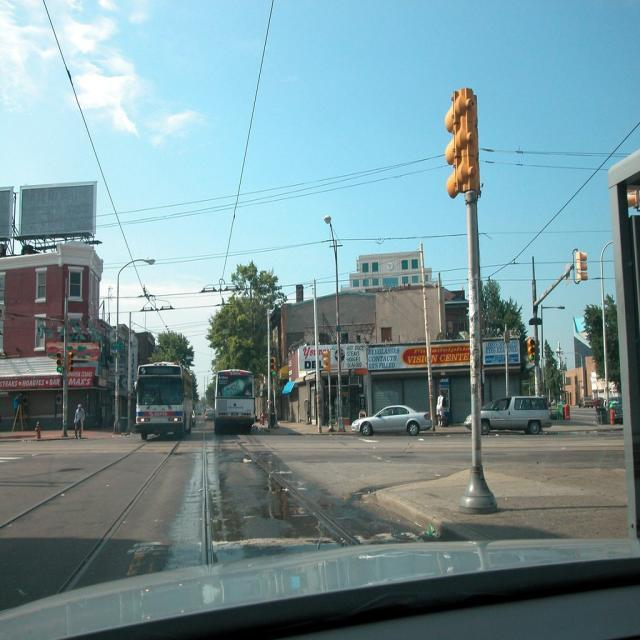off traffic light: (445, 88, 480, 197), (576, 249, 588, 283), (322, 350, 330, 373)
traffic light: (527, 339, 536, 362), (68, 351, 75, 373), (56, 352, 63, 373), (270, 357, 276, 375)
